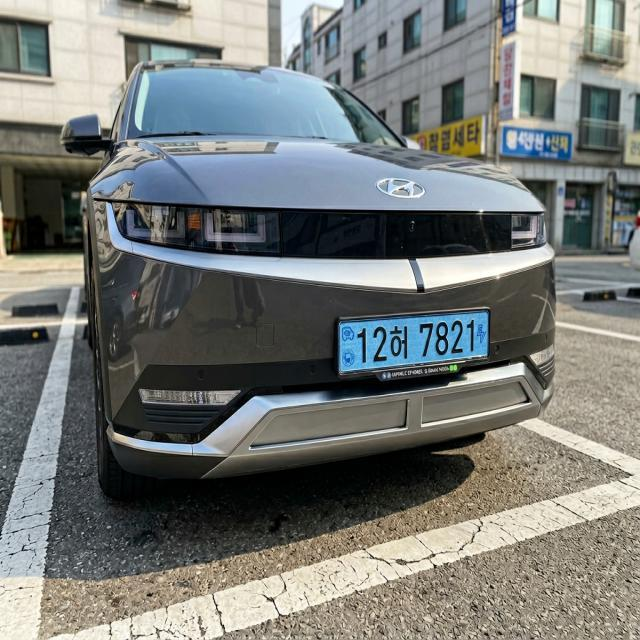car: (327, 299, 507, 396)
carev: (340, 319, 359, 377), (475, 309, 492, 357)
